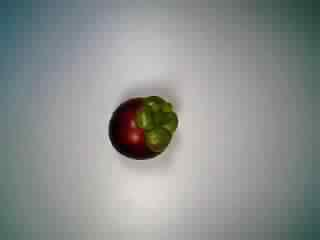mangosteen: (104, 88, 179, 168)
